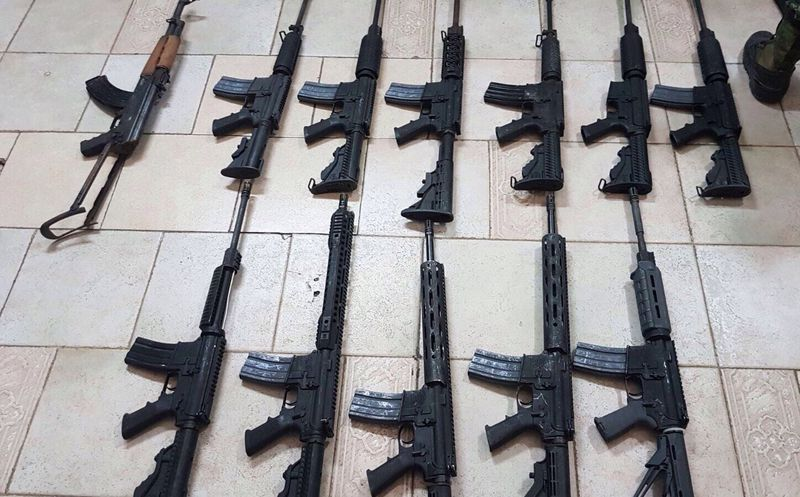Arma Real: (572, 185, 718, 497), (119, 182, 256, 497), (468, 197, 589, 497), (33, 2, 182, 234), (246, 194, 359, 497), (347, 217, 464, 497), (654, 4, 767, 202), (387, 2, 480, 223), (485, 1, 582, 191), (297, 1, 384, 194), (584, 1, 660, 197), (218, 2, 300, 182)
